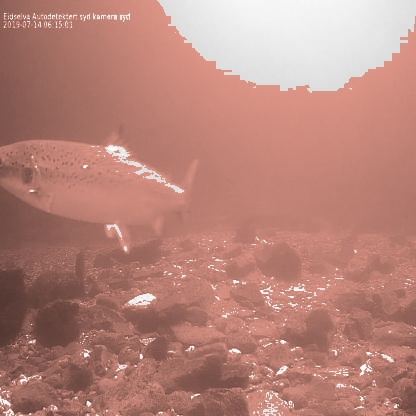salmon: (0, 120, 203, 257)
